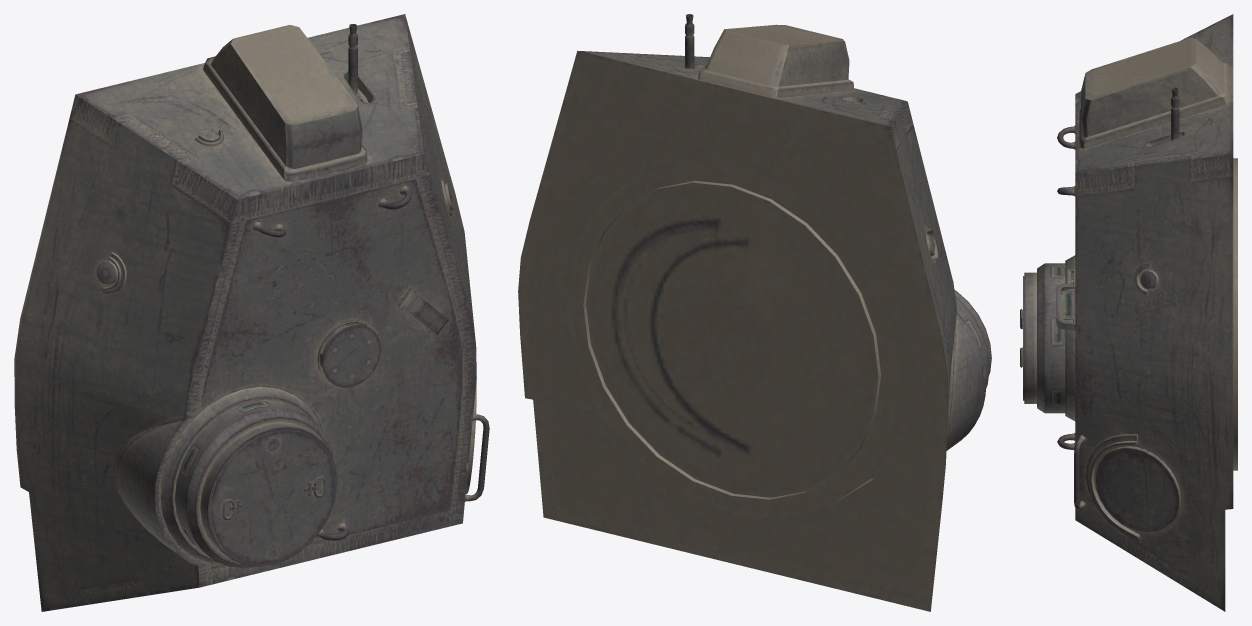
File: Turret_02.glb
The picture shows the model from 3 angles, left to right: view 1: azimuth 30°, elevation 25°; view 2: azimuth 150°, elevation 25°; view 3: azimuth 270°, elevation 25°; orthographic projection. The views are drawn at different scales.
Parts seen in each view (by area): view 1: set_0_group_0; view 2: set_0_group_0; view 3: set_0_group_0.
Part boxes in pixels (bbox=[...]): set_0_group_0: bbox=[14, 14, 489, 611]; set_0_group_0: bbox=[518, 14, 991, 611]; set_0_group_0: bbox=[1020, 14, 1237, 611].
Size of the model in its own units: 2.03 by 2.33 by 0.9706.
Materials: 1 (1 with a texture image).
